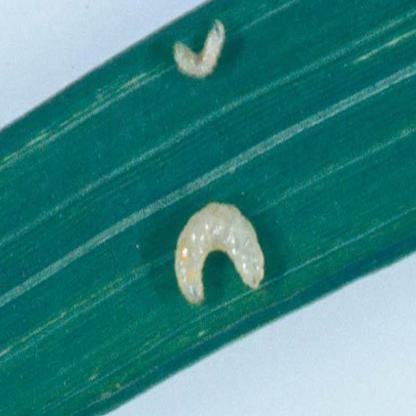whorl-maggot: (164, 194, 267, 309), (170, 16, 228, 85)
